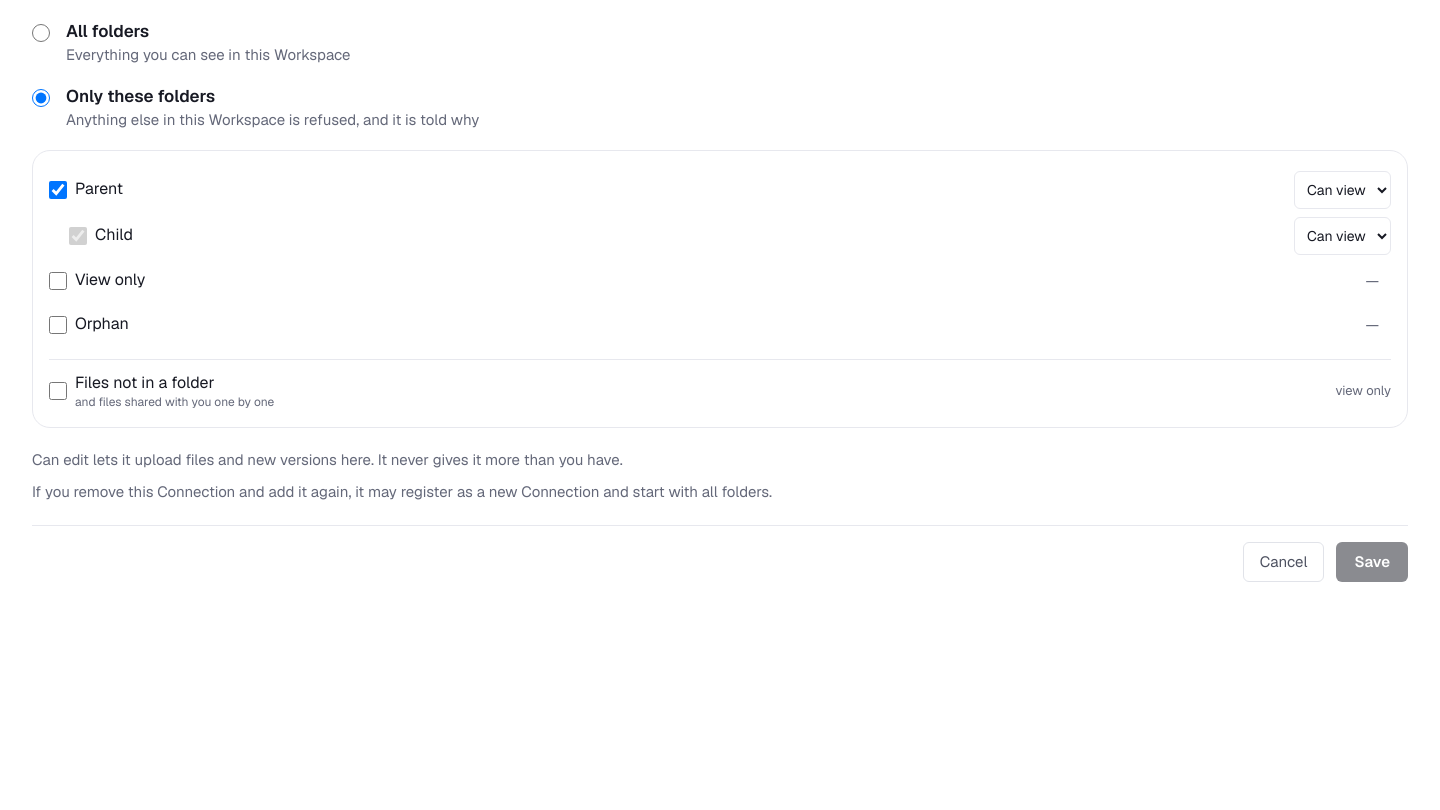
ConnectionFoldersForm › switches modes and only enables Save after a change
Check: the button "Save" is disabled, box x1=1336 y1=542 x2=1408 y2=582
Step 1. Click the radio button labelled "All folders Everything you can see in this Workspace" → (41, 33), box x1=32 y1=24 x2=50 y2=42
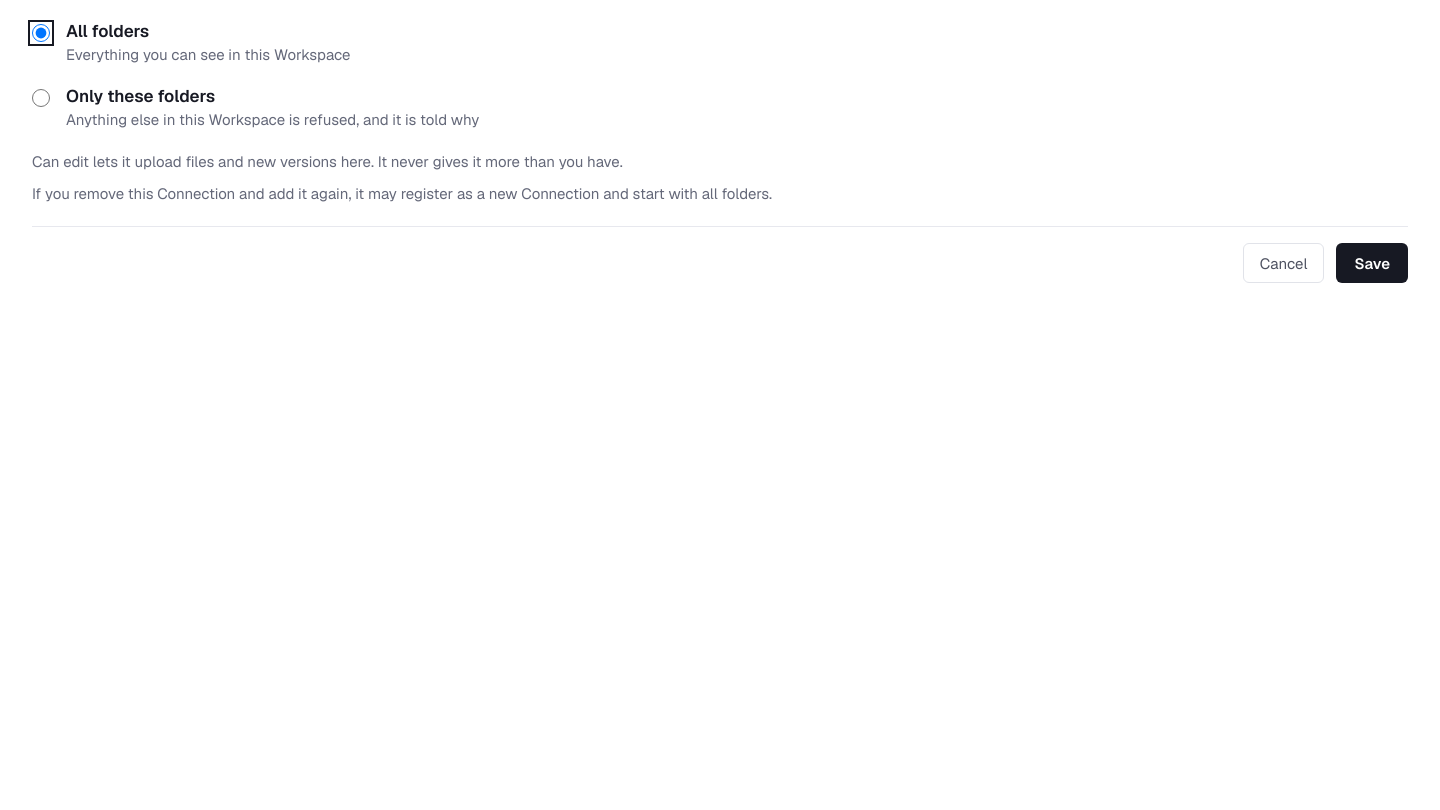
Check: the button "Save" is enabled, box x1=1336 y1=243 x2=1408 y2=283
Step 2. Click the radio button labelled "Only these folders" → (41, 98), box x1=32 y1=89 x2=50 y2=107
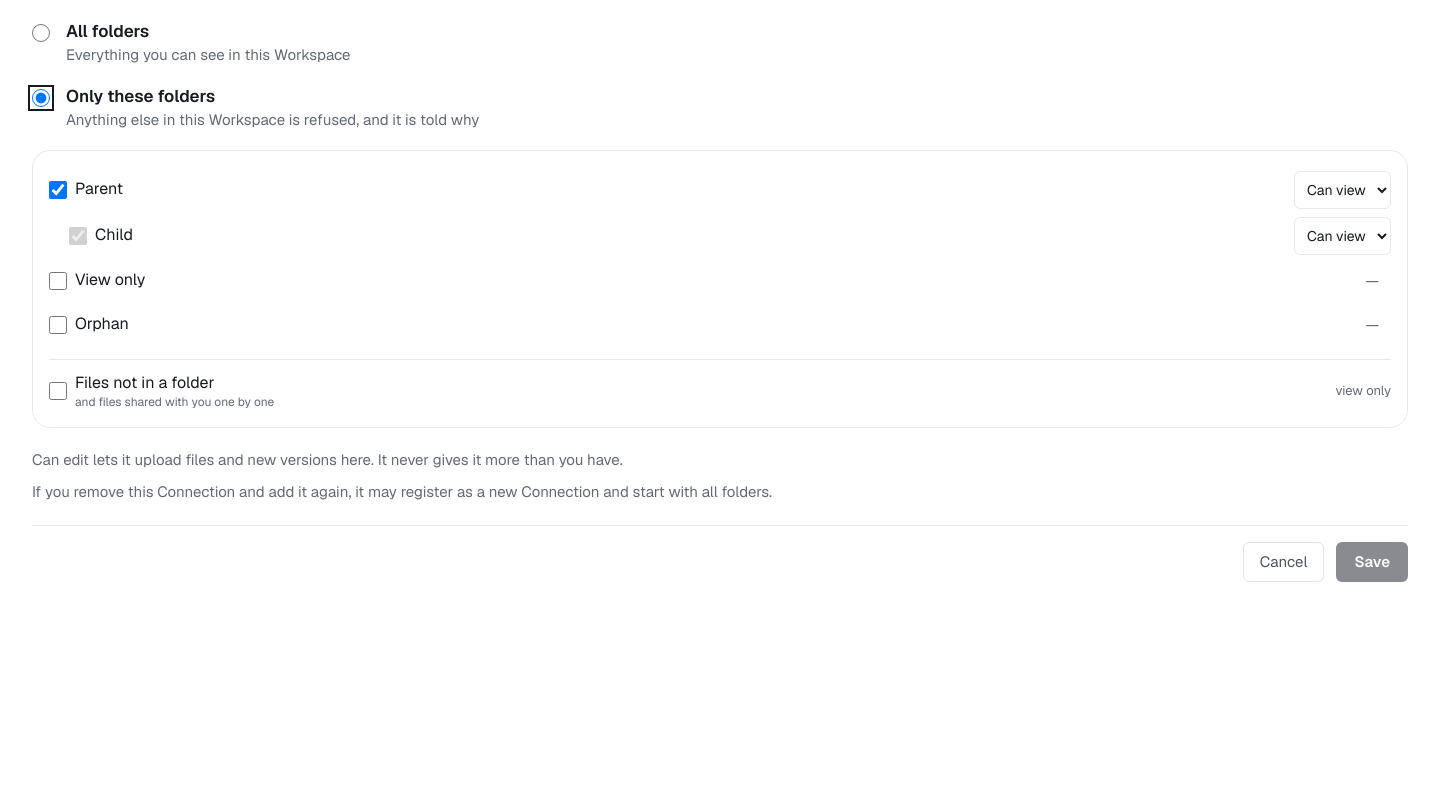
Check: the button "Save" is disabled, box x1=1336 y1=542 x2=1408 y2=582
